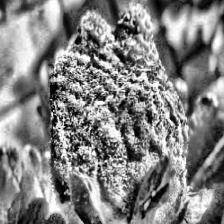Gray Mold: (48, 1, 215, 224)
